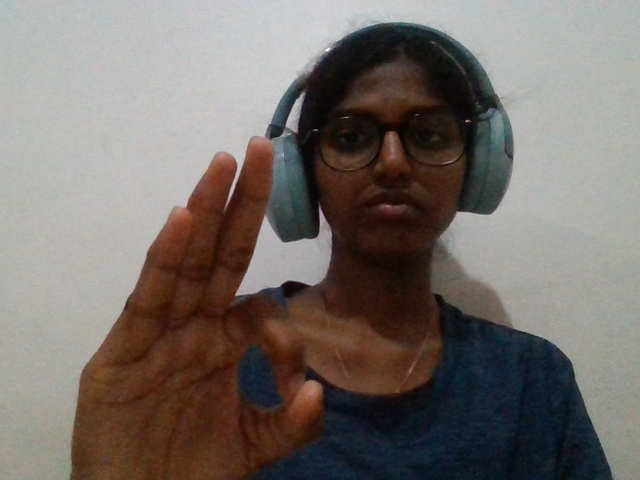F: (47, 121, 320, 473)
